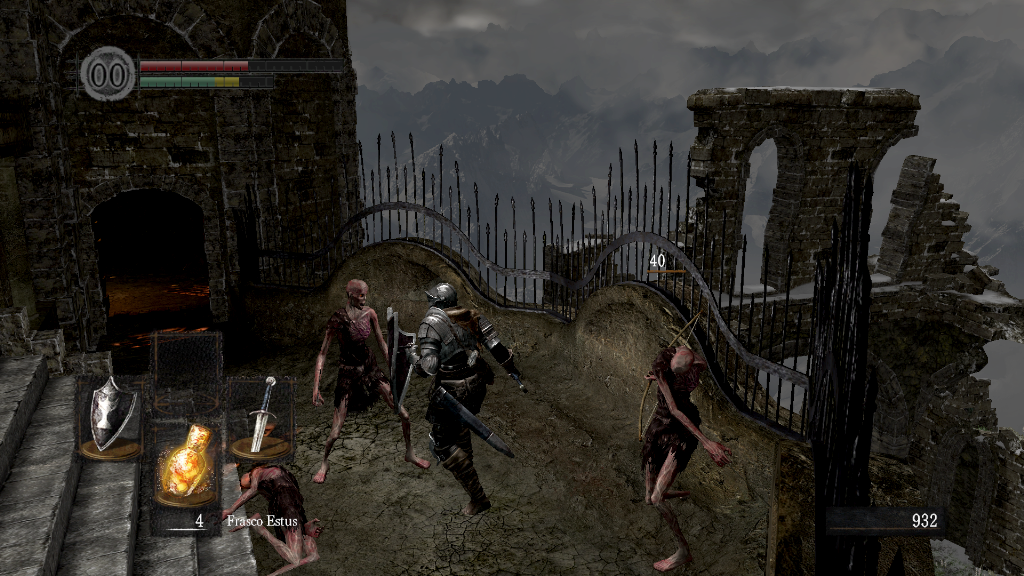health: (138, 58, 343, 71)
hollow: (635, 307, 734, 576), (313, 277, 432, 483)
humanity: (80, 45, 136, 102)
player: (385, 280, 530, 518)
souls: (825, 506, 945, 536)
stamina: (138, 74, 274, 88)
